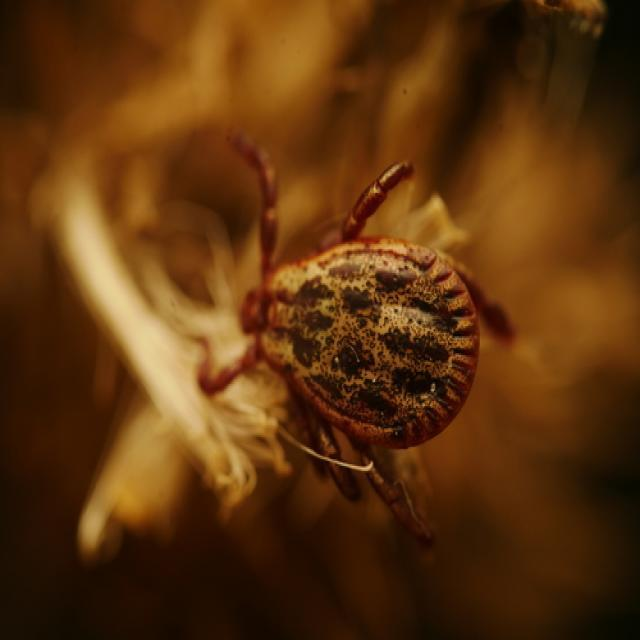Dermacentor Reticulatus-M: (200, 131, 517, 546)
